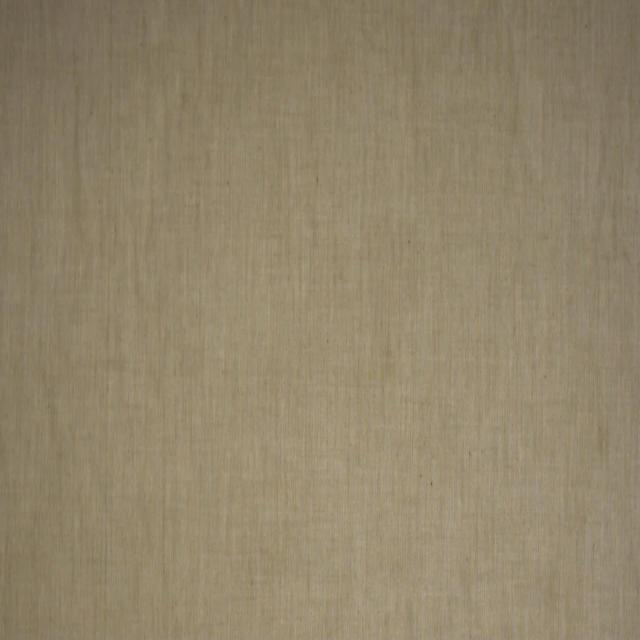dirty: (599, 422, 606, 454)
